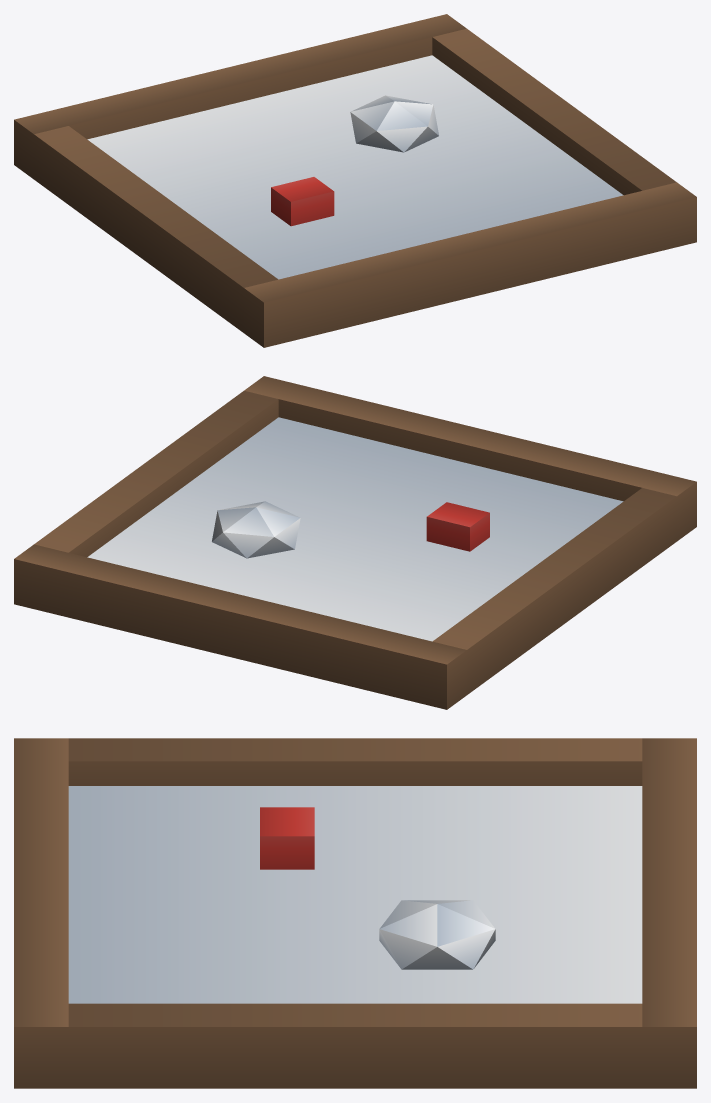
File: ck_sandpit.fbx
3 renders of one model, top to bottom at view 1: azimuth 30°, elevation 25°; view 2: azimuth 150°, elevation 25°; view 3: azimuth 270°, elevation 25°, orthographic. The views are drawn at different scales.
Parts seen in each view (by area): view 1: ck_sandpit; view 2: ck_sandpit; view 3: ck_sandpit.
Boxes of the visible parts, bbox=[...] form: ck_sandpit: bbox=[14, 14, 696, 347]; ck_sandpit: bbox=[14, 376, 696, 709]; ck_sandpit: bbox=[14, 738, 696, 1088].
Size of the model in its own units: 500 by 70 by 500.
